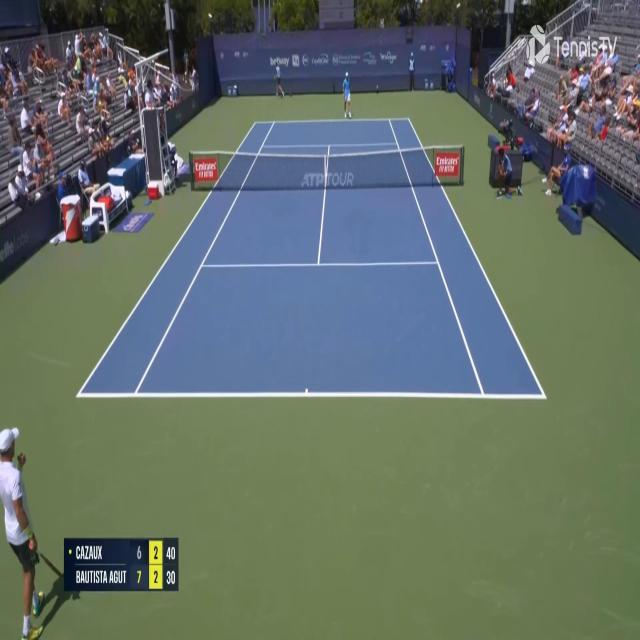tennis-player: (0, 422, 67, 640), (342, 69, 353, 121)
